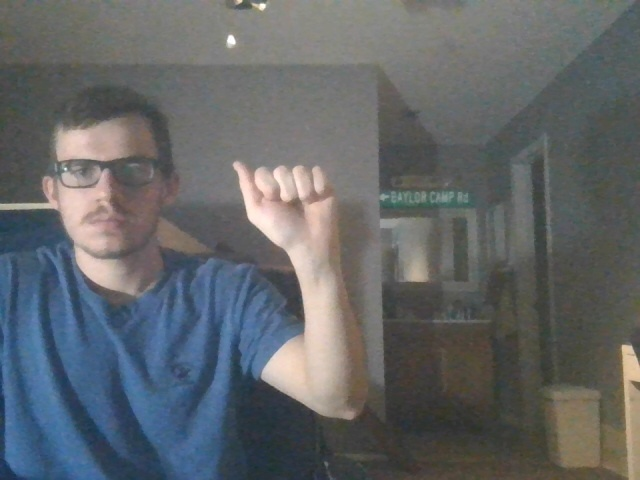A: (214, 153, 355, 253)
